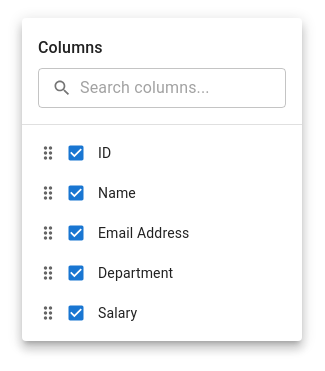
it: ColumnManagerPanel - Search › filters columns by field name (case-insensitive)
In the field with placeholder "Search columns...": (183, 88) [80,68,286,108], type "DEPARTMENT"
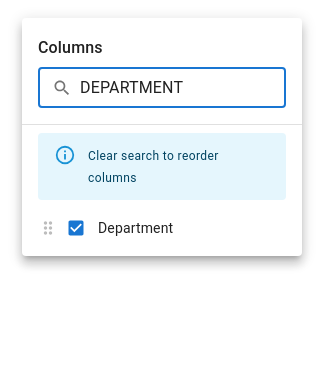
Expected: the element with test id "column-item-department" is shown, [38,218,173,238]
Expected: the element with test id "column-item-id" is gone
